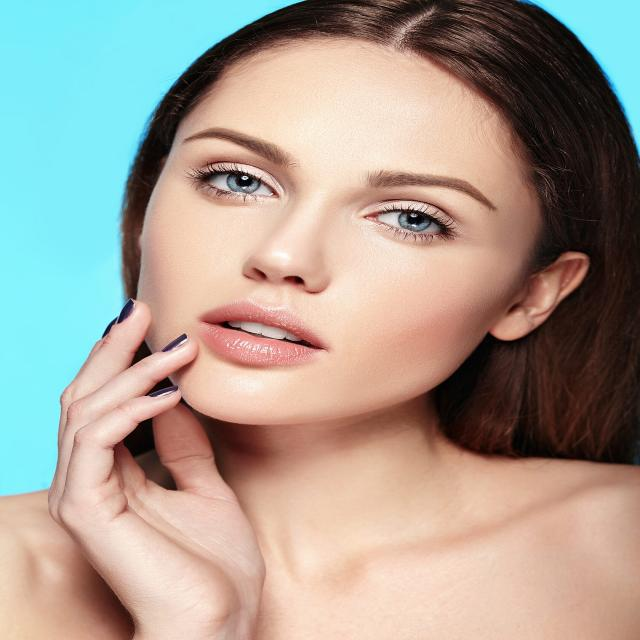earlobe: (492, 307, 528, 342)
eye: (365, 203, 457, 243), (190, 165, 286, 202)
nose: (233, 264, 321, 308)
wholeear: (492, 252, 590, 342)
